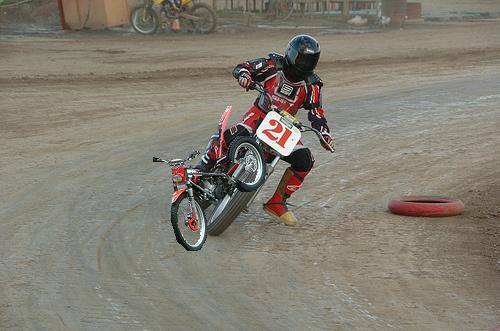tampered: (154, 107, 266, 251)
